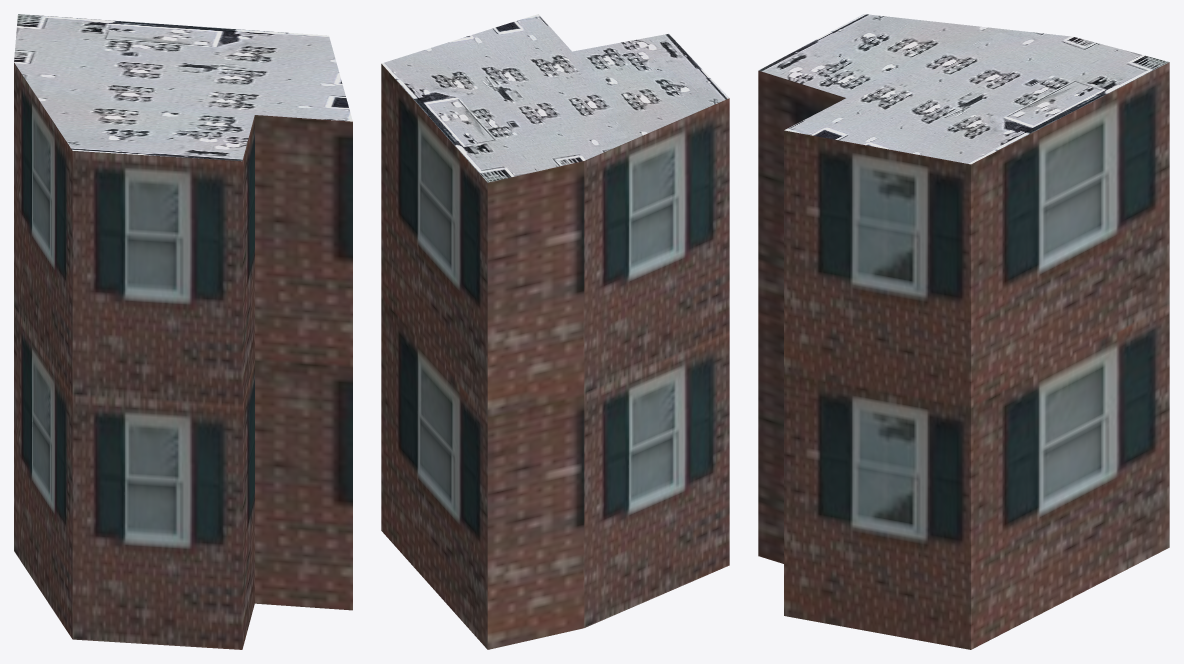
The model's file is ResTex__3699.fbx.
3 views of the same model, side by side, from view 1: azimuth 30°, elevation 25°; view 2: azimuth 150°, elevation 25°; view 3: azimuth 270°, elevation 25° (orthographic). The views are drawn at different scales.
Parts seen in each view (by area): view 1: CityEngineMaterial_14_m, CityEngineMaterial_2_m; view 2: CityEngineMaterial_14_m, CityEngineMaterial_2_m; view 3: CityEngineMaterial_14_m, CityEngineMaterial_2_m.
Part boxes in pixels (bbox=[...]): CityEngineMaterial_14_m: bbox=[14, 62, 352, 649]; CityEngineMaterial_2_m: bbox=[14, 14, 352, 161]; CityEngineMaterial_14_m: bbox=[381, 64, 729, 649]; CityEngineMaterial_2_m: bbox=[381, 14, 729, 182]; CityEngineMaterial_14_m: bbox=[758, 62, 1169, 649]; CityEngineMaterial_2_m: bbox=[759, 14, 1168, 164].
Bounding box in the file's own units: 3.99 × 6 × 4.61.
2 materials, 2 textured.
